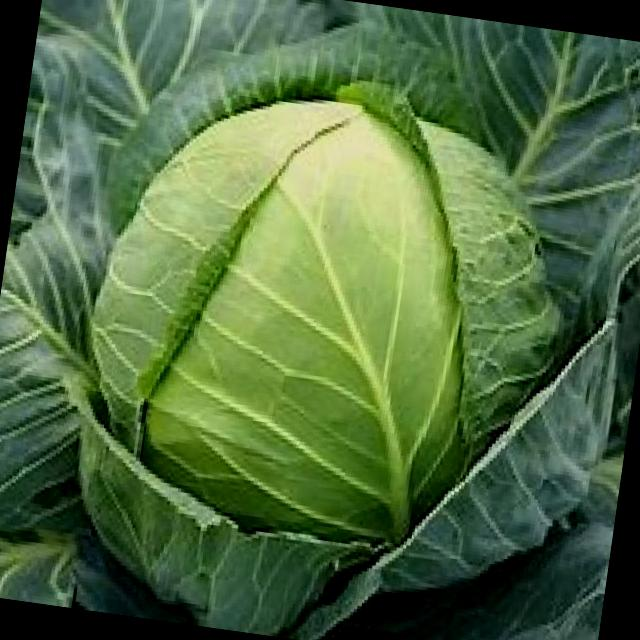cabbage: (62, 64, 591, 596)
